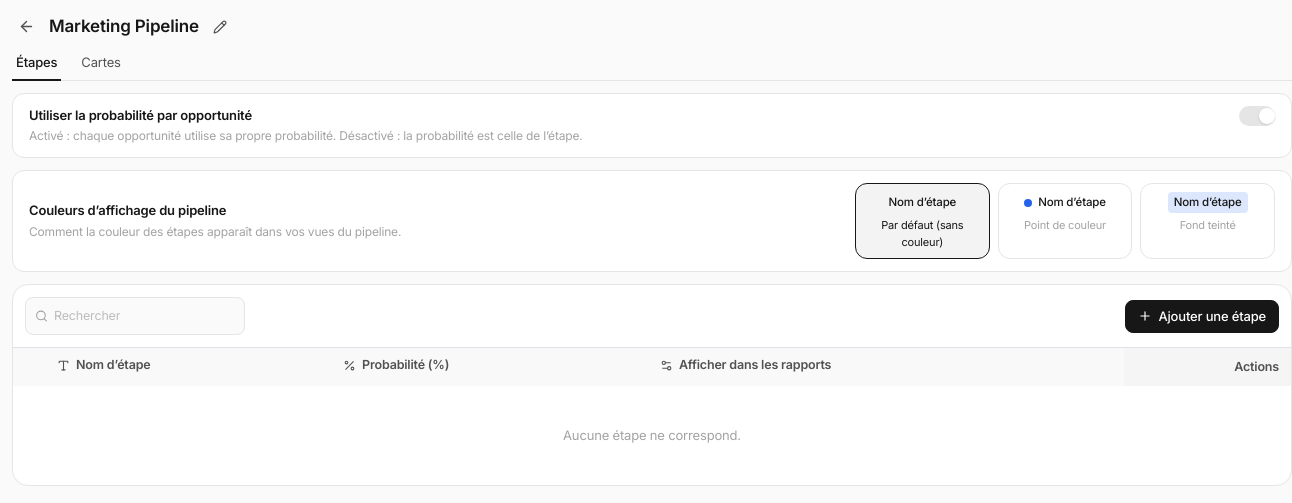
Test case: réglages d’un pipeline — onglet « Cartes » › 6 champs au plus
Click the tab "Cartes": click(101, 67) [77,53,125,80]
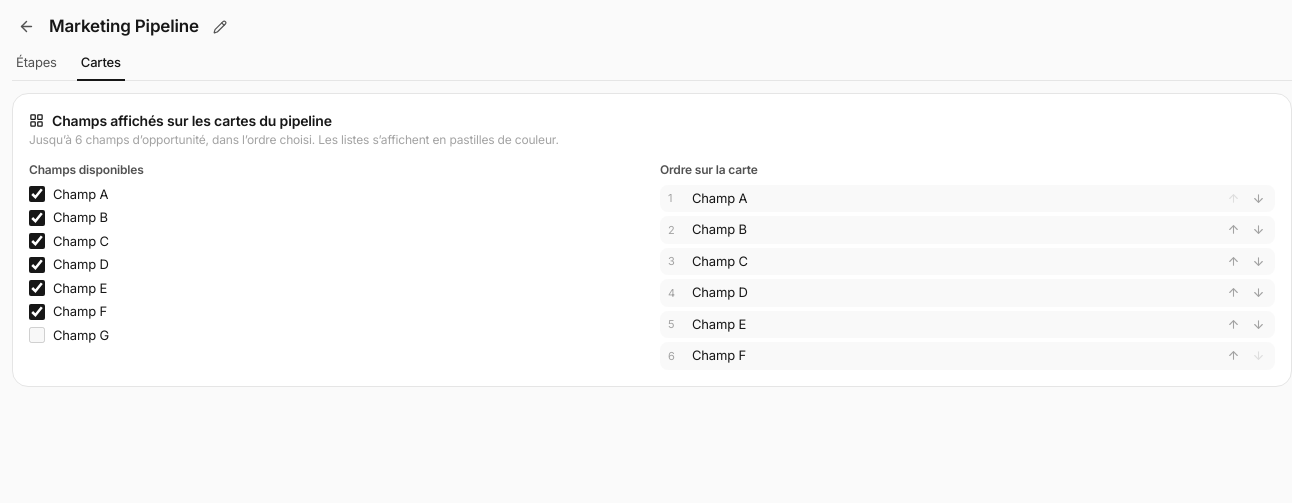
Expected: the checkbox labelled "Champ G" is disabled, [29,327,45,343]
Expected: the checkbox labelled "Champ A" is checked, [29,186,45,202]
